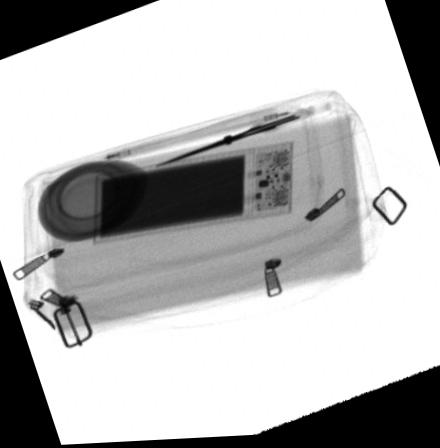Powerbank: (92, 143, 297, 246)
Scissors: (155, 103, 337, 172)
